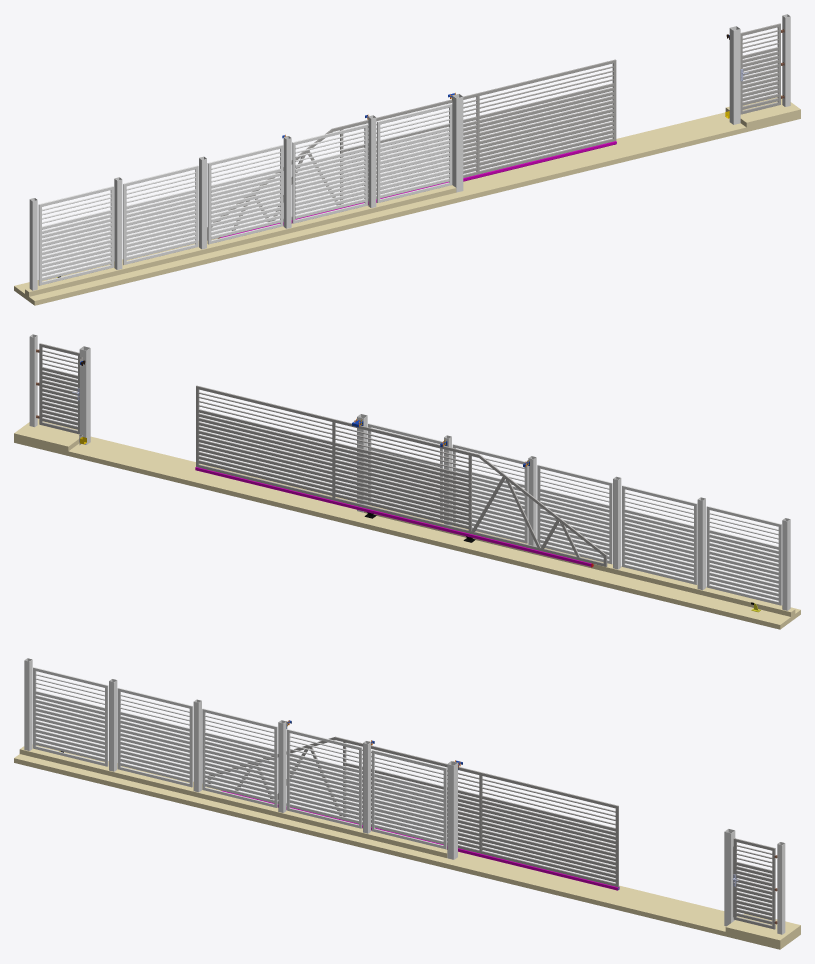
The model's file is door.fbx.
3 renders of one model, top to bottom at view 1: azimuth 30°, elevation 25°; view 2: azimuth 150°, elevation 25°; view 3: azimuth 330°, elevation 25°, orthographic.
Parts seen in each view (by area): view 1: Solid1 (×25); view 2: Solid1 (×38); view 3: Solid1 (×25).
Boxes of the visible parts, left/top/right/bottom form: Solid1 (×25): left=14, top=14, right=800, bottom=305; Solid1 (×38): left=14, top=334, right=800, bottom=629; Solid1 (×25): left=14, top=658, right=800, bottom=949.
Size of the model in its own units: 670 by 82.68 by 31.5.
